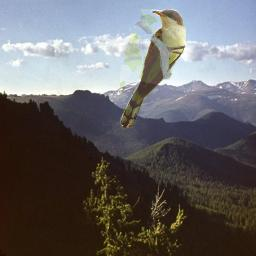Cuckoo: (120, 9, 186, 130)
